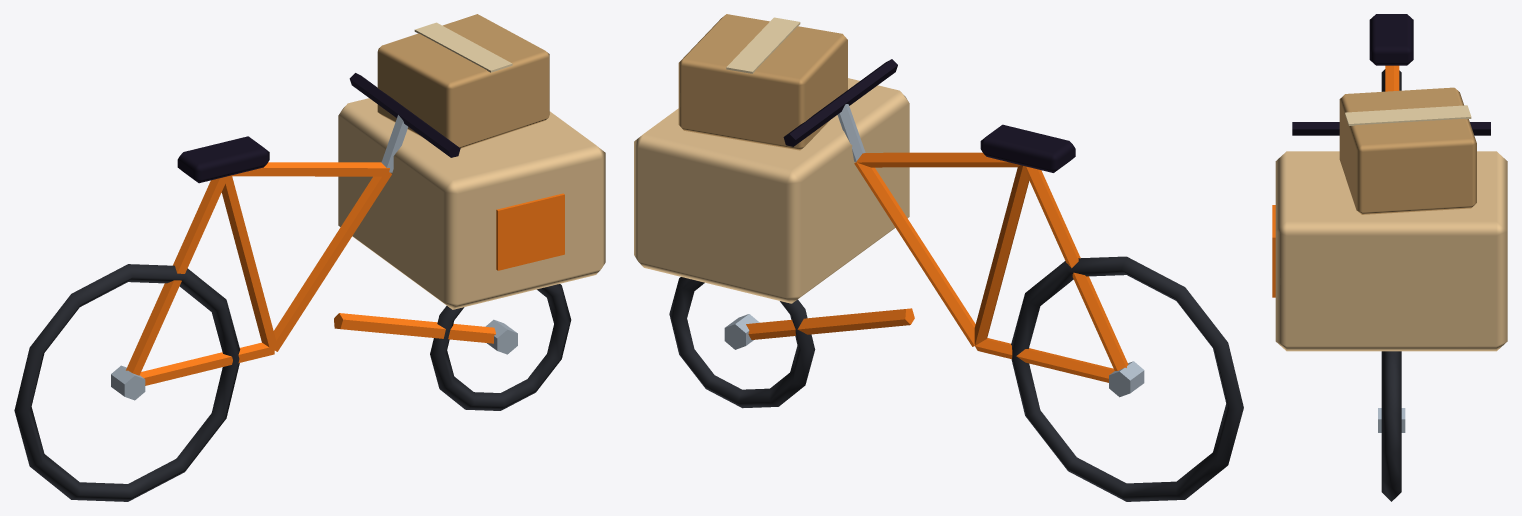
Rendered from station_transport_ausstattung_3_1.glb.
3 views of the same model, side by side, from view 1: azimuth 30°, elevation 25°; view 2: azimuth 150°, elevation 25°; view 3: azimuth 270°, elevation 25° (orthographic). The views are drawn at different scales.
Parts seen in each view (by area): view 1: station_transport_ausstattung_3_1; view 2: station_transport_ausstattung_3_1; view 3: station_transport_ausstattung_3_1.
Part boxes in pixels (x1,y1,x2,y2): station_transport_ausstattung_3_1: [14, 14, 605, 501]; station_transport_ausstattung_3_1: [634, 14, 1243, 501]; station_transport_ausstattung_3_1: [1272, 14, 1507, 501].
Size of the model in its own units: 1.17 by 0.731 by 0.426.
